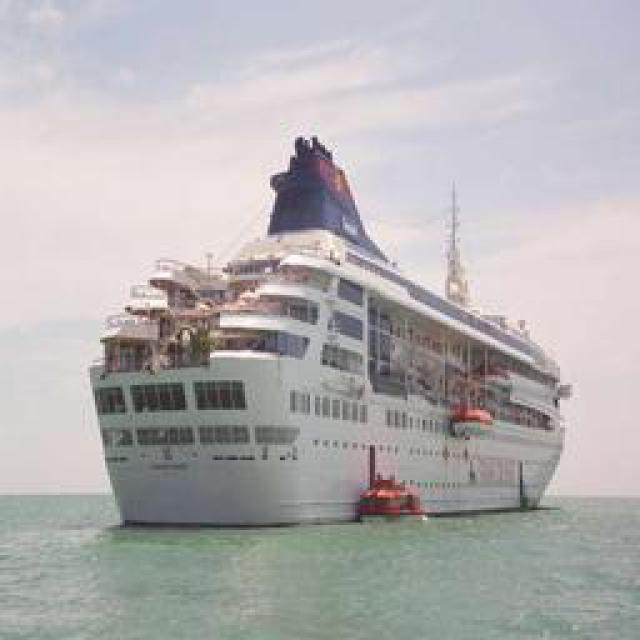Ship: (83, 121, 571, 529)
